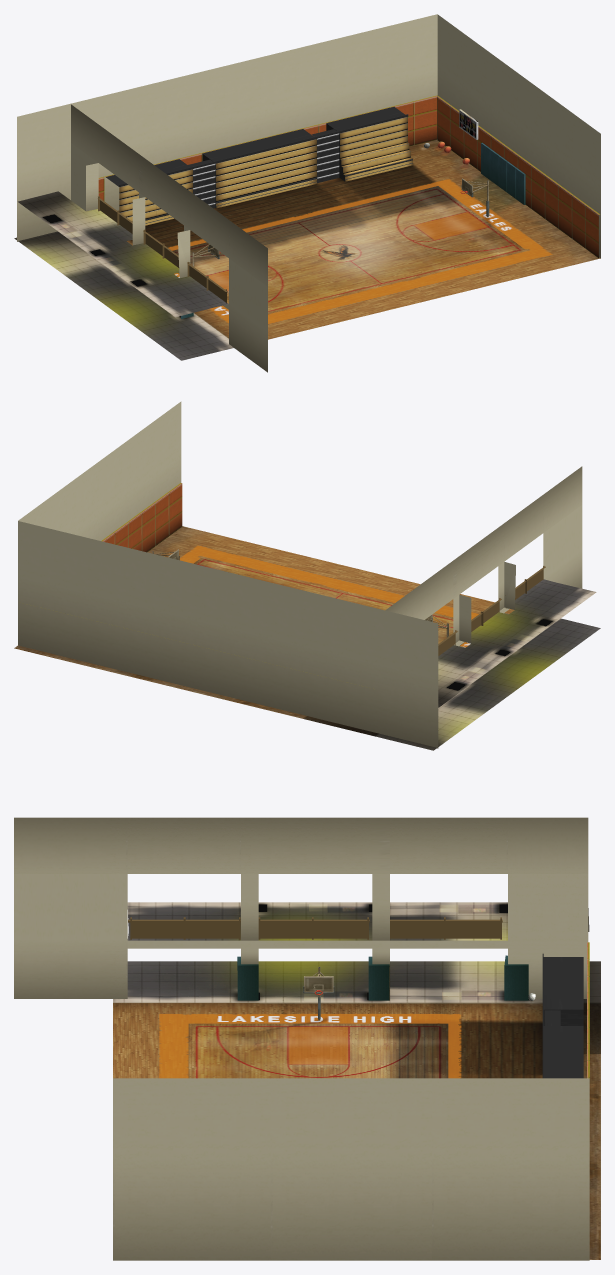
File: court_highschool_mesh.fbx
3 renders of one model, top to bottom at view 1: azimuth 30°, elevation 25°; view 2: azimuth 150°, elevation 25°; view 3: azimuth 270°, elevation 25°, orthographic. The views are drawn at different scales.
Parts seen in each view (by area): view 1: court_highschool_mesh; view 2: court_highschool_mesh; view 3: court_highschool_mesh.
Part boxes in pixels (left/top/right/bottom): court_highschool_mesh: left=14, top=14, right=600, bottom=372; court_highschool_mesh: left=14, top=401, right=600, bottom=750; court_highschool_mesh: left=14, top=817, right=600, bottom=1260.
Size of the model in its own units: 143 by 40.56 by 118.
